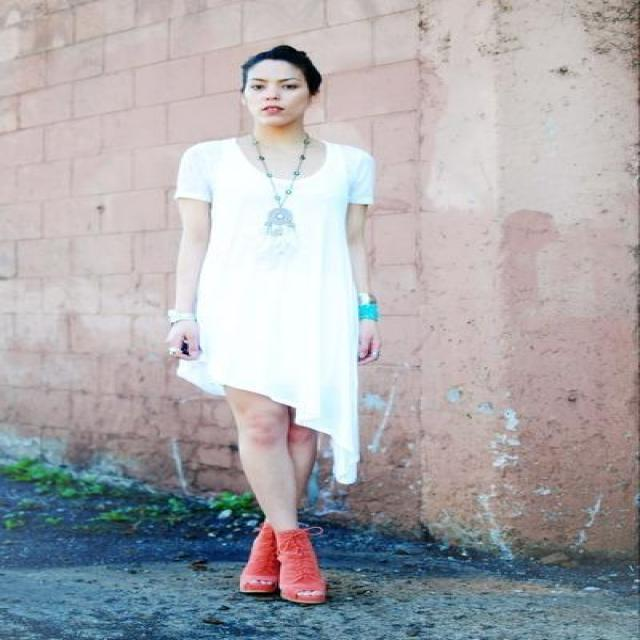dress: (174, 138, 374, 483)
shoe: (240, 528, 325, 601)
